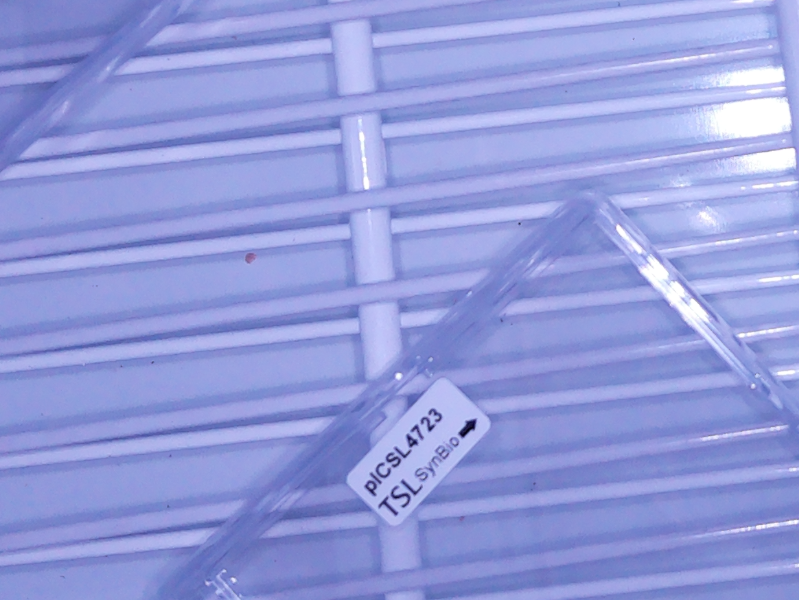plate: (154, 188, 798, 600), (1, 1, 185, 171)
